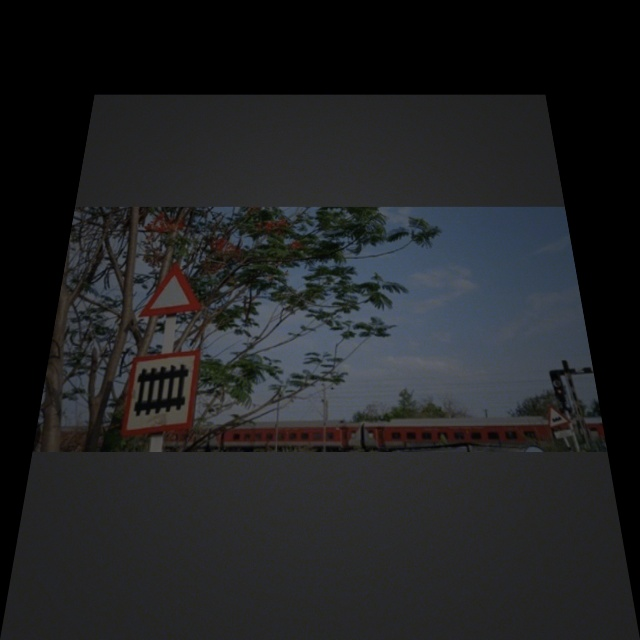Guarded_Level_Crossing: (120, 342, 205, 432)
